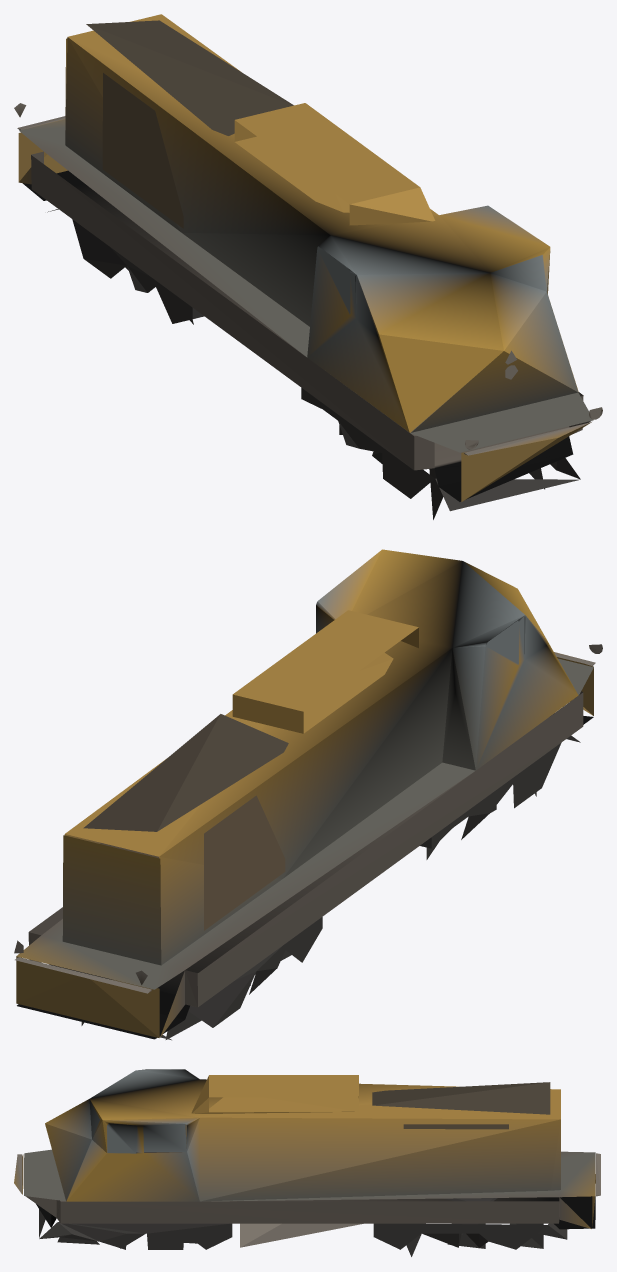
File: diesel-loco.lod2.glb
3 views of the same model, one above another, from view 1: azimuth 30°, elevation 25°; view 2: azimuth 150°, elevation 25°; view 3: azimuth 270°, elevation 25° (orthographic). The views are drawn at different scales.
Parts seen in each view (by area): view 1: Object_2; view 2: Object_2; view 3: Object_2.
Boxes of the visible parts, <box> form: Object_2: <box>14,14,602,519</box>; Object_2: <box>14,549,602,1040</box>; Object_2: <box>14,1069,600,1256</box>.
Size of the model in its own units: 3.33 by 4.47 by 15.37.
